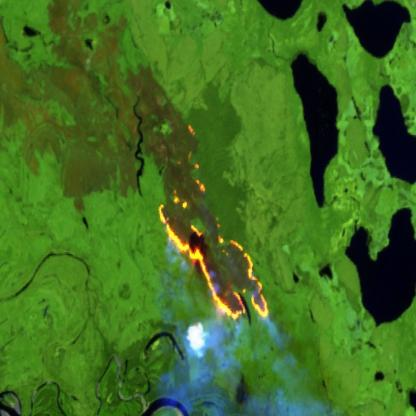fire: (156, 184, 270, 326)
